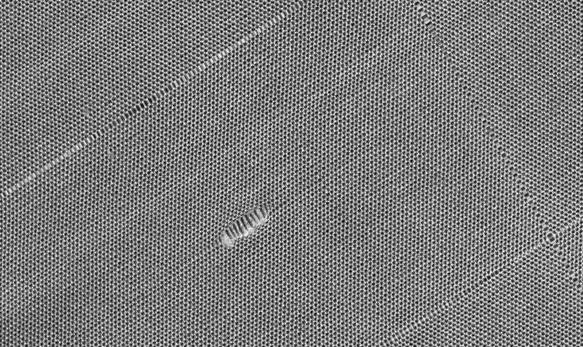slub: (214, 202, 283, 256)
